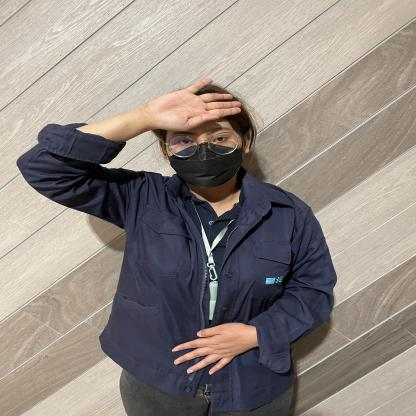Sick: (61, 64, 273, 146)
